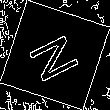N_NE: (23, 26, 87, 84)
